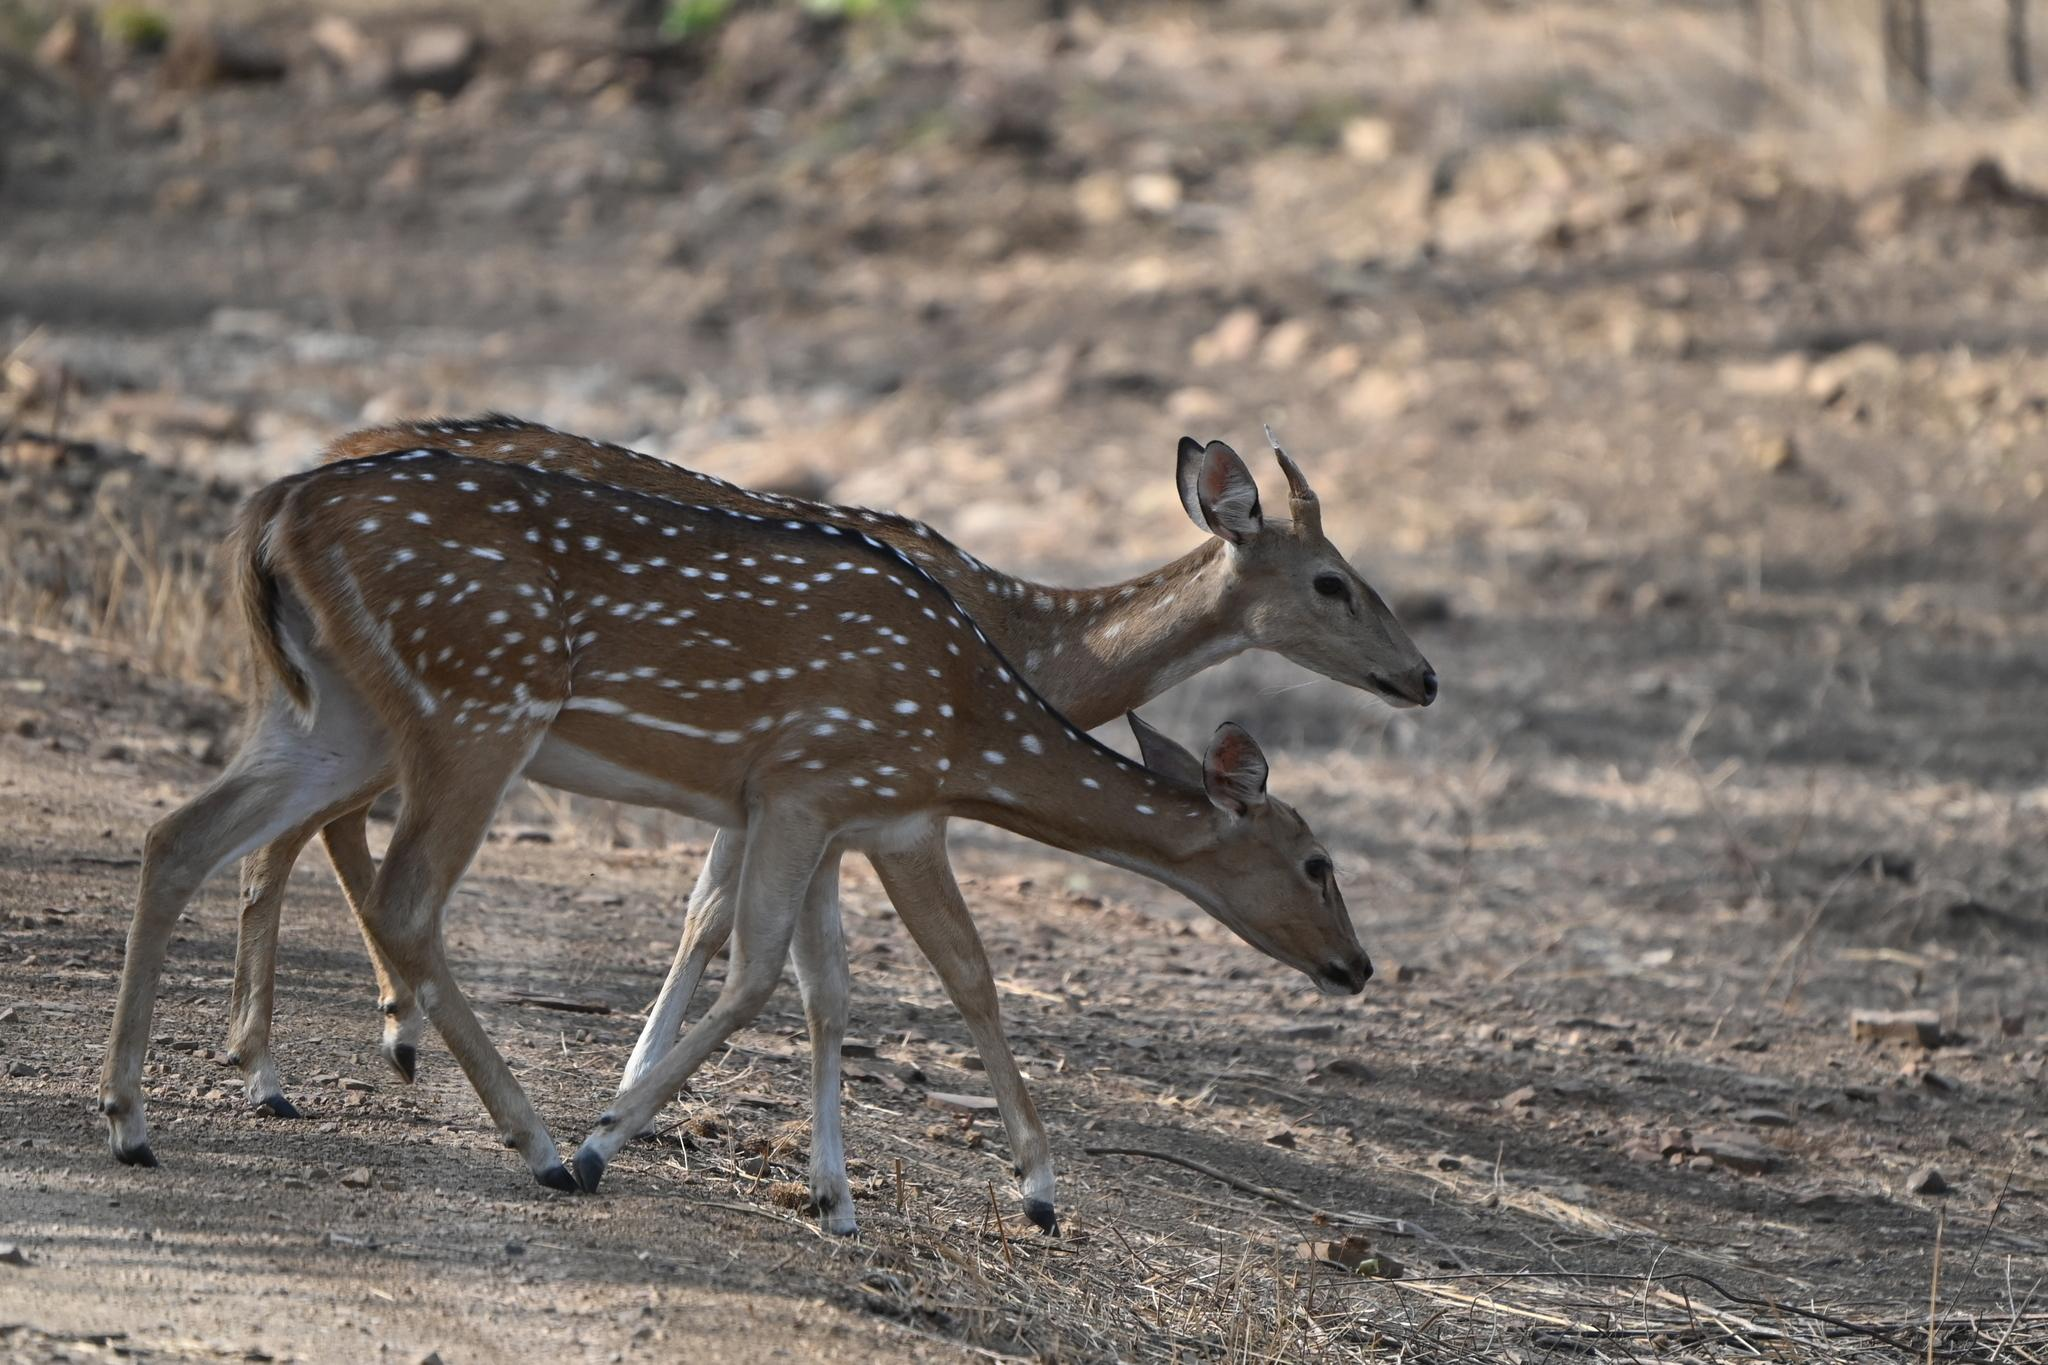Deer: (104, 449, 1370, 1232), (321, 416, 1437, 728)
